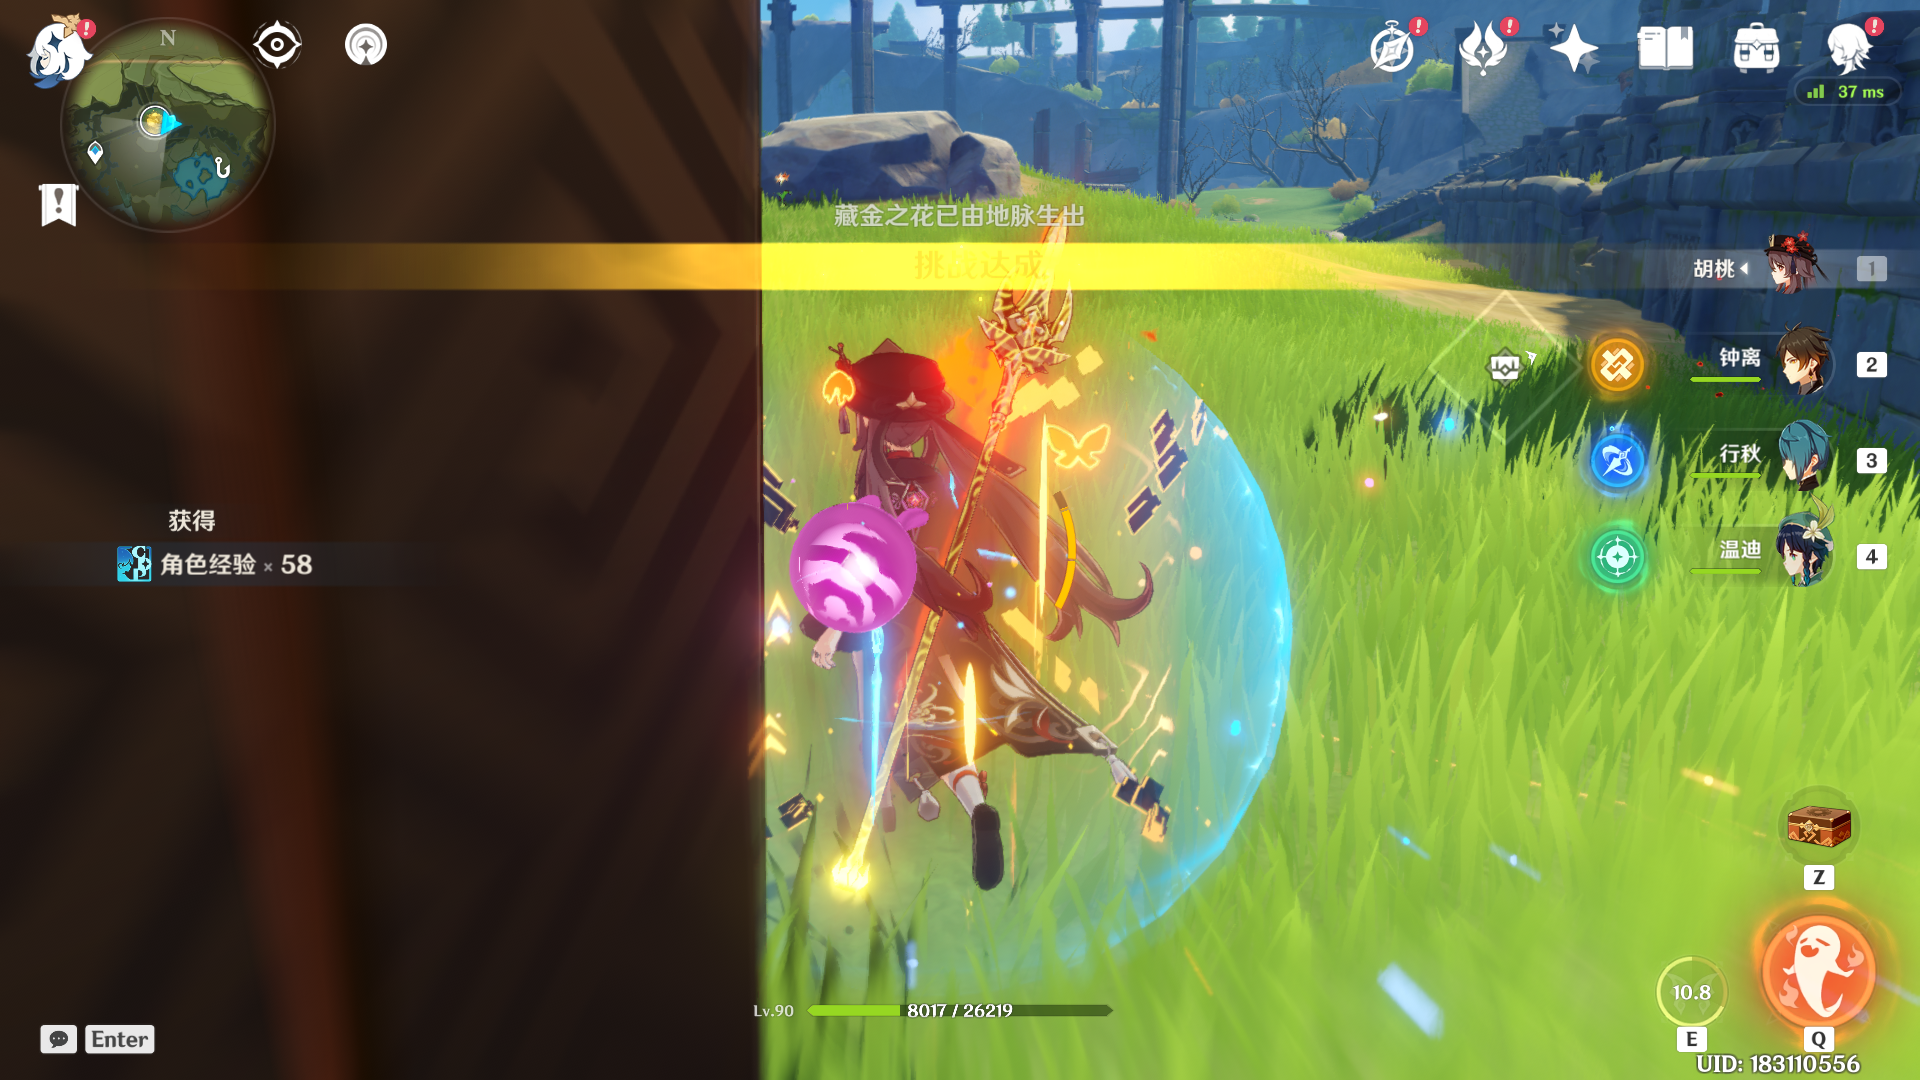character: (733, 291, 1211, 955)
